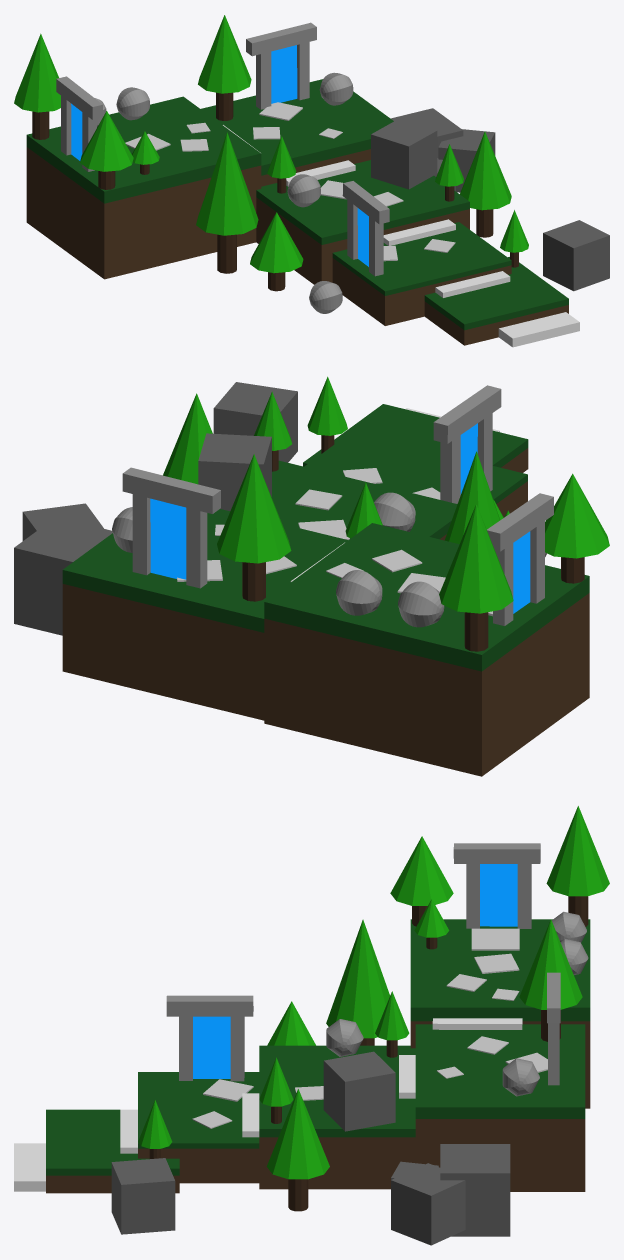
Rendered from enviroment.glb.
The picture shows the model from 3 angles, top to bottom: view 1: azimuth 30°, elevation 25°; view 2: azimuth 150°, elevation 25°; view 3: azimuth 270°, elevation 25°; orthographic projection. The views are drawn at different scales.
Parts seen in each view (by area): view 1: terrain, terrain.002, terrain.003, terrain.001, terrain.004, three.007, cubeRock, cubeRock.001, three.003, three.009, three.001, three (+27 smaller); view 2: terrain, terrain.001, cubeRock.004, terrain.003, terrain.002, three.001, three.003, terrain.004, three, cubeRock.001, cubeRock, portal (+24 smaller); view 3: terrain.001, terrain.002, terrain, terrain.003, terrain.004, cubeRock.004, cubeRock.001, cubeRock.003, cubeRock, three.007, three.009, three.001 (+29 smaller).
Part boxes in pixels (box(x1,y1,x2,y2)): terrain: box(26, 96, 261, 279); terrain.002: box(256, 160, 469, 284); terrain.003: box(332, 222, 511, 325); terrain.001: box(201, 79, 393, 186); terrain.004: box(424, 257, 568, 345); three.007: box(196, 132, 258, 273); cubeRock: box(543, 220, 609, 291); cubeRock.001: box(371, 118, 437, 189); three.003: box(198, 15, 251, 120); three.009: box(460, 131, 511, 237); three.001: box(14, 33, 60, 139); three: box(80, 111, 133, 189); terrain: box(264, 523, 589, 776); terrain.001: box(62, 509, 348, 720); cubeRock.004: box(14, 517, 112, 635); terrain.003: box(304, 431, 527, 517); terrain.002: box(271, 460, 457, 540); three.001: box(439, 504, 513, 651); three.003: box(217, 454, 291, 601); terrain.004: box(303, 404, 528, 472); three: box(545, 473, 609, 583); cubeRock.001: box(198, 433, 271, 510); cubeRock: box(213, 382, 297, 462); portal: box(150, 498, 186, 579); terrain.001: box(415, 1024, 585, 1191); terrain.002: box(259, 1045, 415, 1189); terrain: box(410, 919, 590, 1108); terrain.003: box(138, 1072, 259, 1183); terrain.004: box(46, 1109, 179, 1193); cubeRock.004: box(440, 1144, 510, 1236); cubeRock.001: box(323, 1051, 395, 1131); cubeRock.003: box(391, 1163, 465, 1245); cubeRock: box(111, 1158, 175, 1234); three.007: box(326, 919, 389, 1045); three.009: box(266, 1089, 329, 1211); three.001: box(546, 806, 609, 926).
Size of what is drawn, in the model's own units: 16.42 by 7.43 by 17.69.
